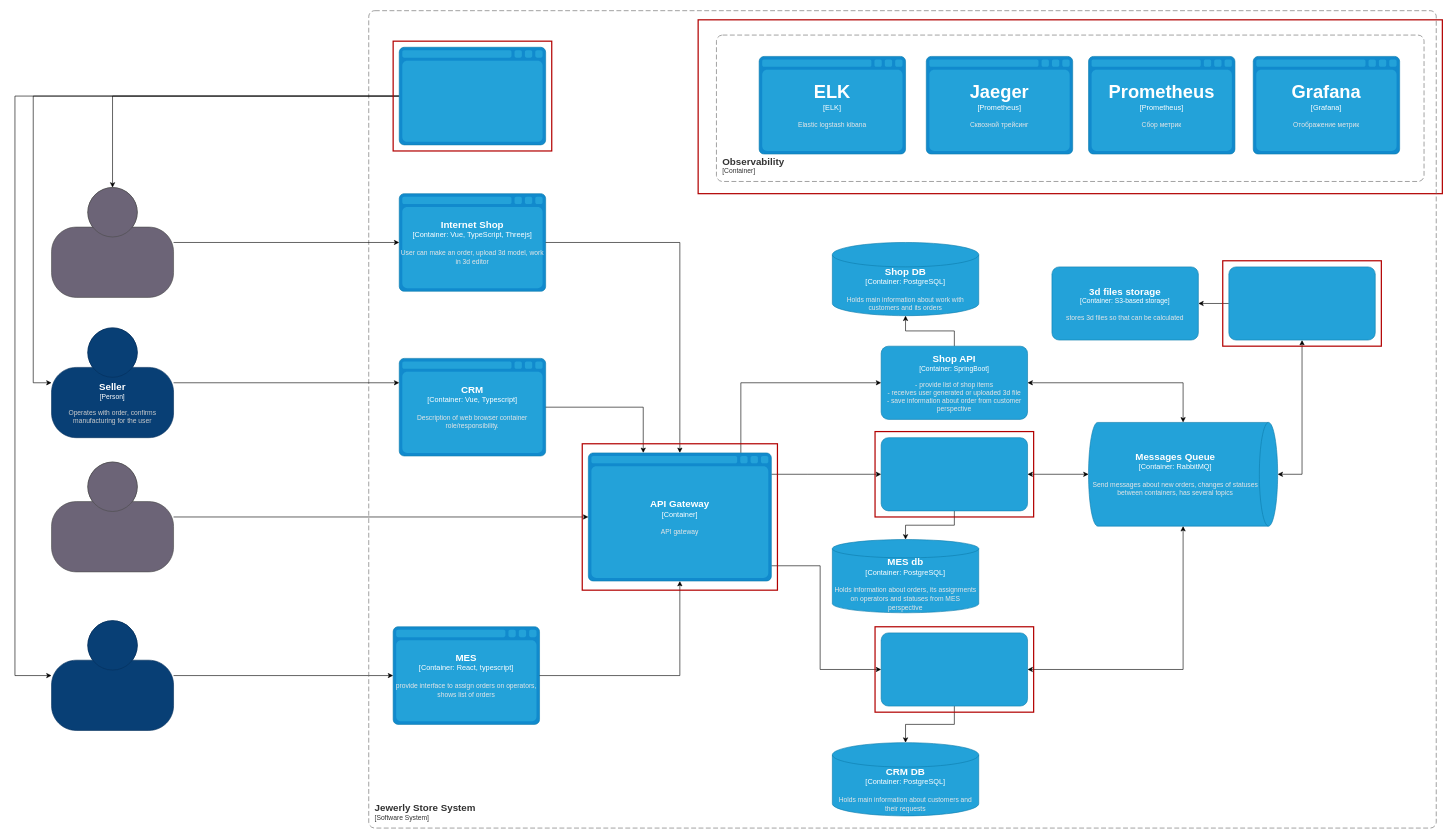
This 1454x839 diagram has some shape labels left out. Each missing label, with the centre of its shape:
API user [Person] Description of external person.: the point at 112,516
CDN [CDN] Static storage: the point at 472,96
CRM API [Container: SpringBoot] Description of container role/responsibility.: the point at 954,669
Customer [Person] Description of external person.: the point at 112,242
MES [Container: C#] Calculates price of the order: the point at 1301,303
MES API [Container: Spring boot] API for - MES application - MES management: the point at 954,474
Operator [Person] Takes order in work, manufactures jewerly: the point at 112,675
